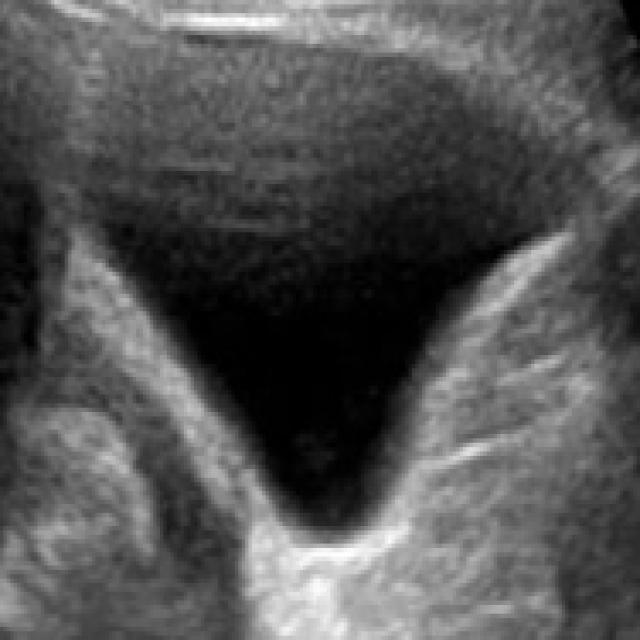bladder: (42, 5, 609, 624)
